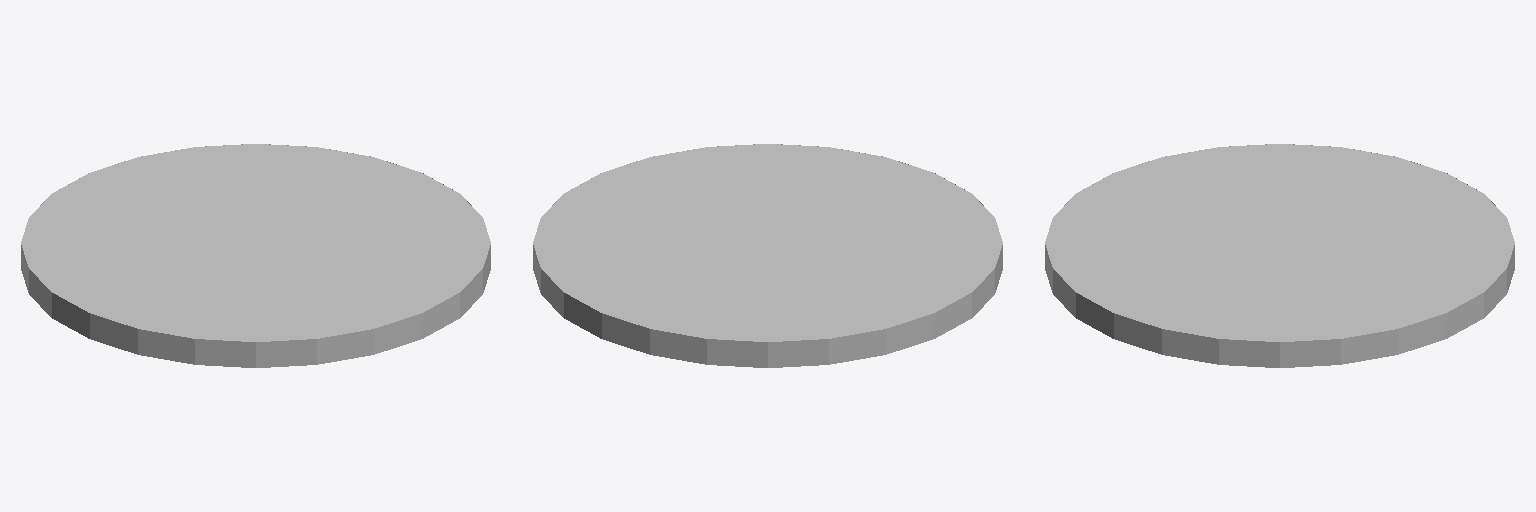
The model's file is original-2.obj.
3 views of the same model, side by side, from view 1: azimuth 30°, elevation 25°; view 2: azimuth 150°, elevation 25°; view 3: azimuth 270°, elevation 25° (orthographic).
Visible parts, largest first — view 1: #ID204; view 2: #ID204; view 3: #ID204.
Part boxes in pixels (left/top/right/bottom): #ID204: left=21, top=144, right=490, bottom=367; #ID204: left=533, top=144, right=1002, bottom=367; #ID204: left=1045, top=144, right=1514, bottom=367.
Bounding box in the file's own units: 0.2689 × 0.0164 × 0.2689.